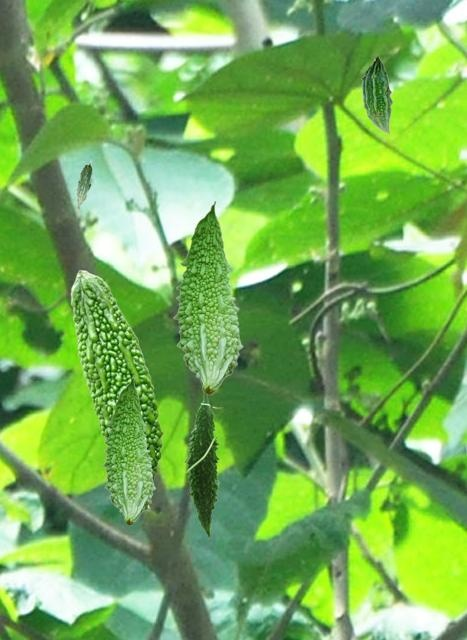ampalaya: (70, 269, 165, 512), (172, 200, 243, 395), (101, 374, 156, 526), (183, 392, 224, 539), (360, 53, 393, 135), (75, 159, 92, 212)
